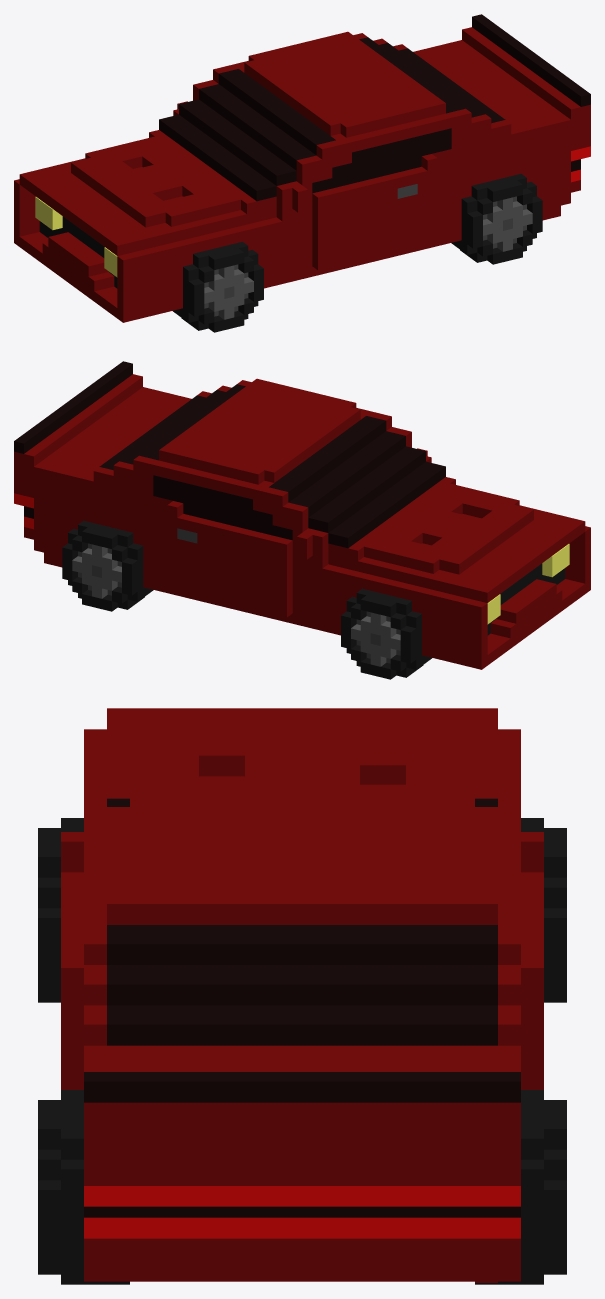
The model's file is ferrari.glb.
3 views of the same model, one above another, from view 1: azimuth 30°, elevation 25°; view 2: azimuth 150°, elevation 25°; view 3: azimuth 270°, elevation 25° (orthographic). The views are drawn at different scales.
Parts seen in each view (by area): view 1: defaultobject; view 2: defaultobject; view 3: defaultobject.
Part boxes in pixels (box(x1,y1,x2,y2)): defaultobject: box(14, 14, 590, 332); defaultobject: box(14, 361, 590, 679); defaultobject: box(38, 708, 566, 1284).
Bounding box in the file's own units: 4.7 × 1.5 × 2.3.
1 material, 1 textured.
